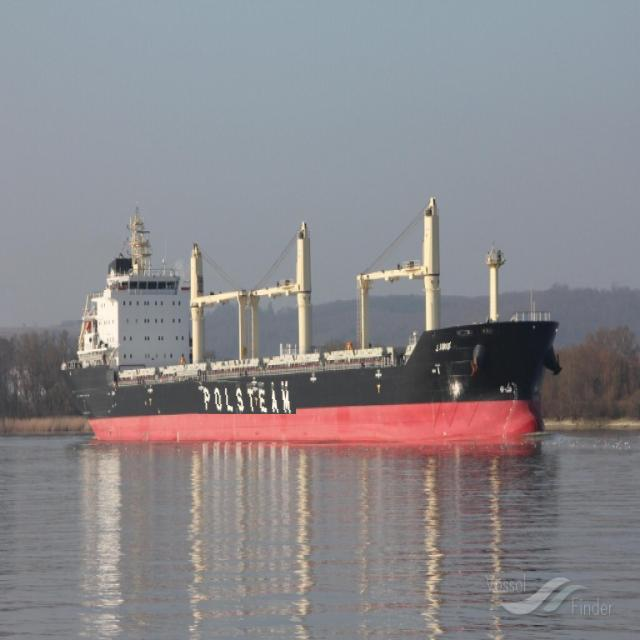OCR: (188, 377, 296, 414), (434, 339, 457, 359)
